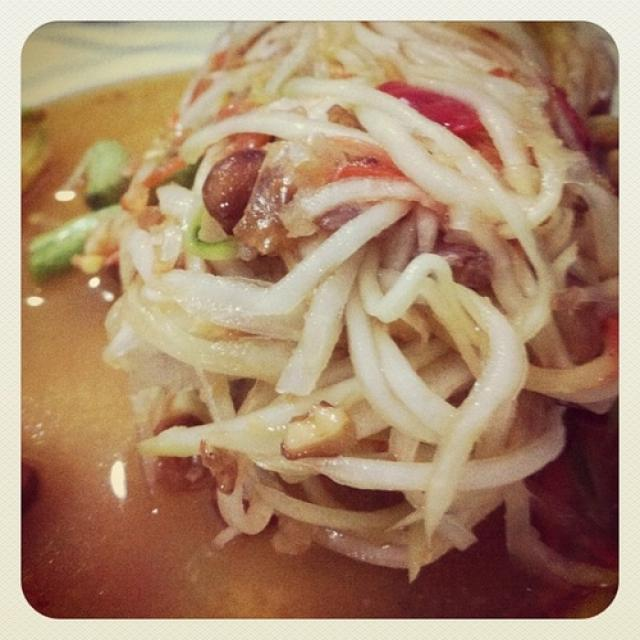蔬菜料理: (59, 34, 605, 602)
